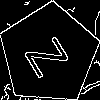Z: (24, 29, 78, 80)
